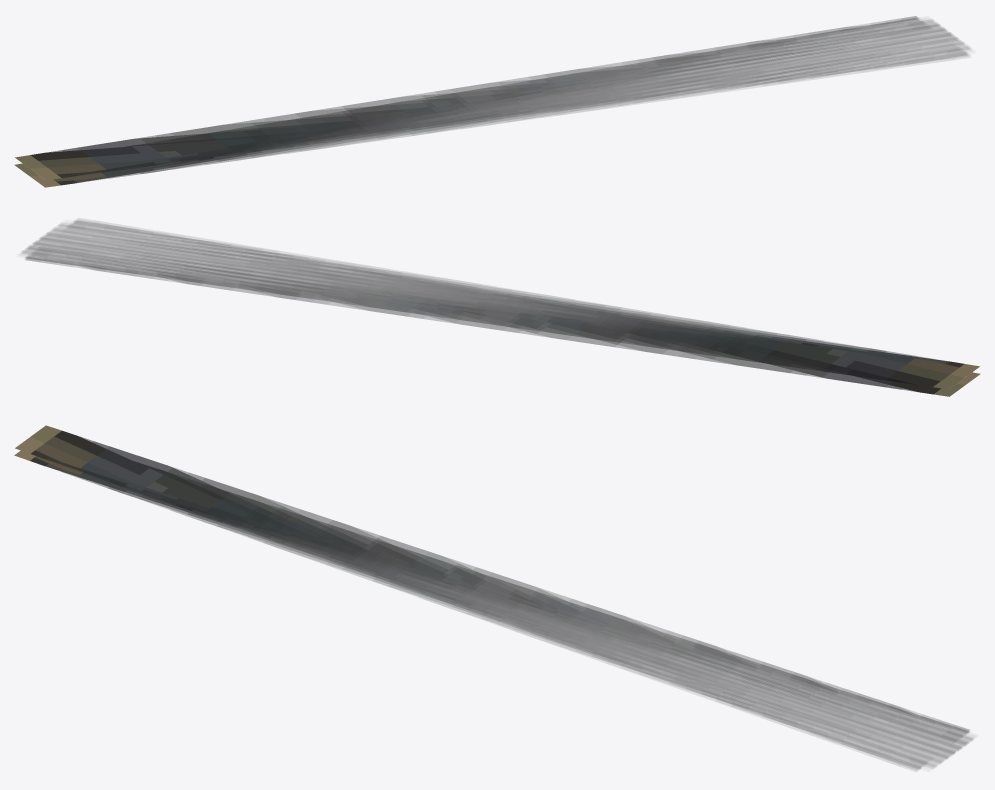
Rendered from USA - Aviation - Chinook Transport Helicopter - Damage State 3 - AVChinook_d3.glb.
The picture shows the model from 3 angles, top to bottom: view 1: azimuth 30°, elevation 25°; view 2: azimuth 150°, elevation 25°; view 3: azimuth 330°, elevation 25°; orthographic projection.
Parts seen in each view (by area): view 1: AVCHINOOK_D3; view 2: AVCHINOOK_D3; view 3: AVCHINOOK_D3.
Part boxes in pixels (x1,y1,x2,y2): AVCHINOOK_D3: (14,16,970,187); AVCHINOOK_D3: (21,219,980,396); AVCHINOOK_D3: (14,425,973,770).
Size of the model in its own units: 20.02 by 1.84 by 2.08.
1 material, 1 textured.
